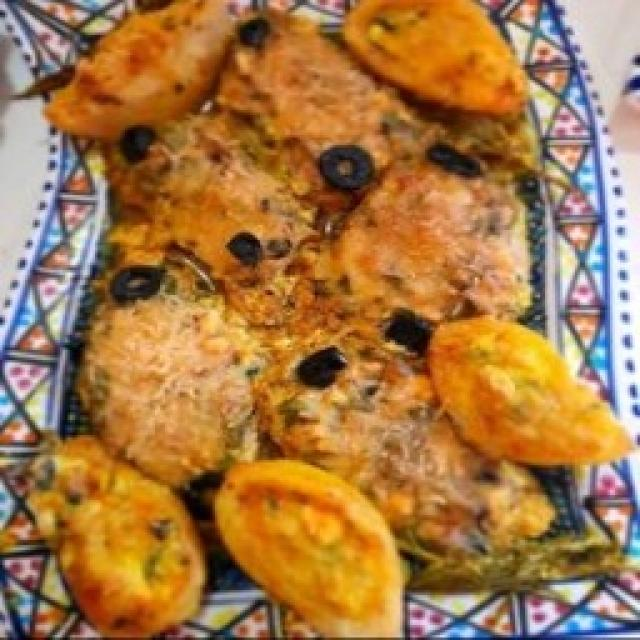Brik: (339, 160, 526, 322)
